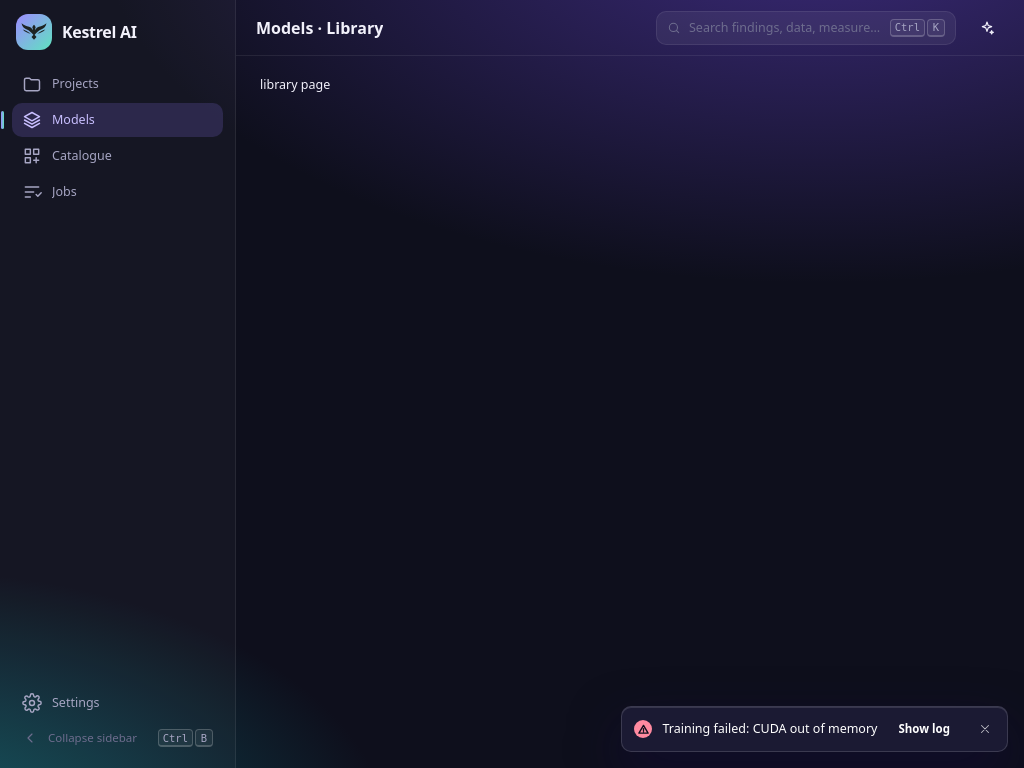
Shell › toasts a failed library job on an app route; 'Show log' opens it in the Jobs section
Expected: the text "library page" is shown, [260, 76, 330, 93]
Expected: the text "Training failed: CUDA out of memory" is shown, [662, 720, 877, 738]
Click the button "Show log".
click(924, 729)  # box [888, 715, 961, 743]
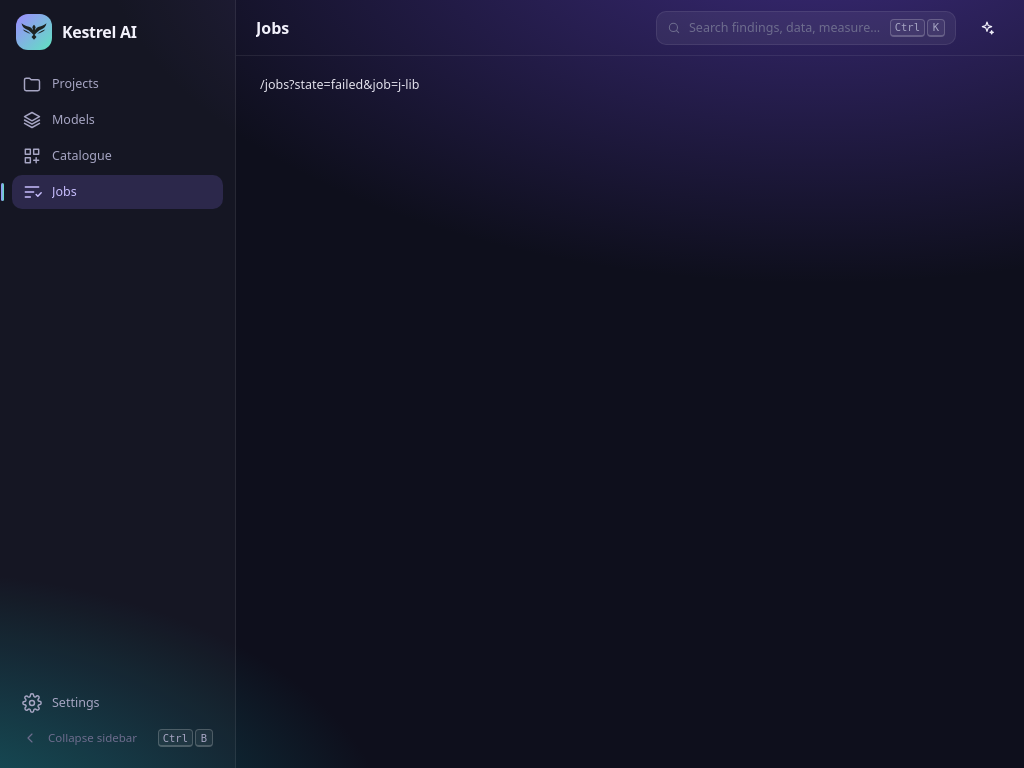
Now the text with test id "where" reads "/jobs?state=failed&job=j-lib", box [260, 76, 419, 93]
